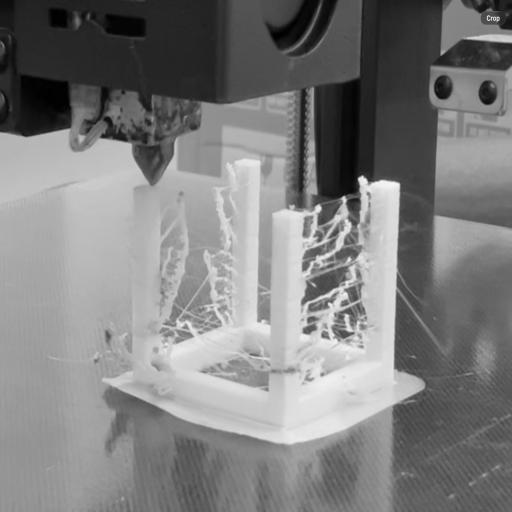spaghetti_and_stringing: (289, 195, 384, 372), (162, 176, 241, 328), (157, 318, 282, 384), (36, 324, 153, 376)
warp: (98, 377, 231, 431), (232, 414, 344, 456)
